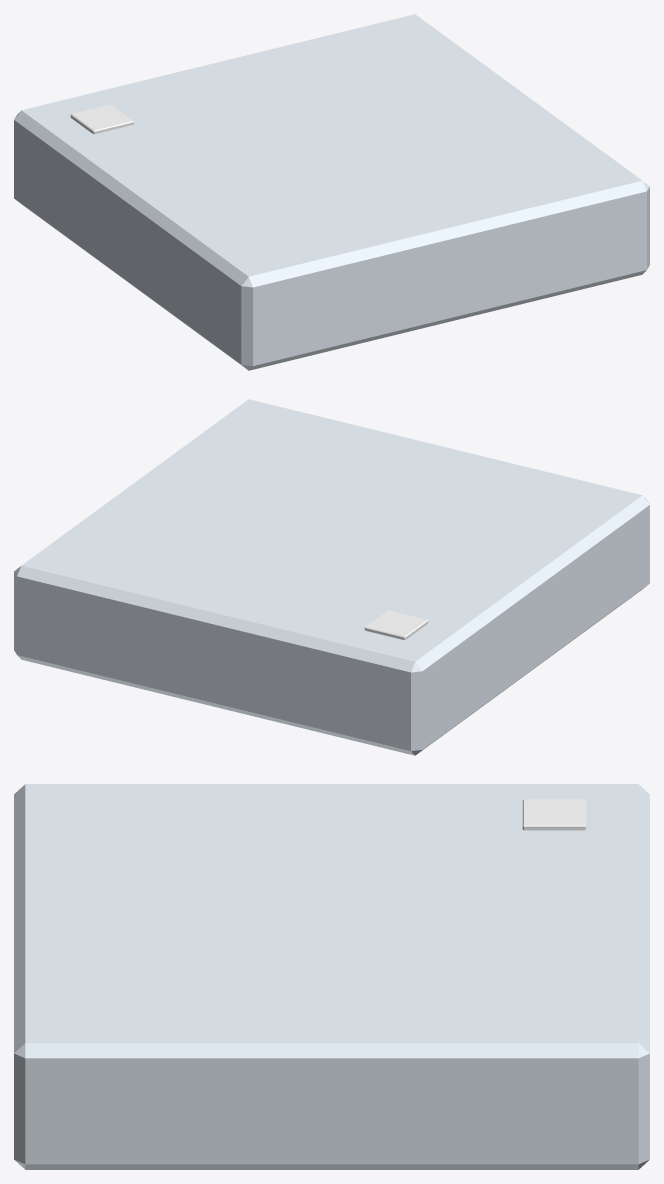
File: Tile_Ice_Core_v001.fbx
The picture shows the model from 3 angles, top to bottom: view 1: azimuth 30°, elevation 25°; view 2: azimuth 150°, elevation 25°; view 3: azimuth 270°, elevation 25°; orthographic projection. The views are drawn at different scales.
Visible parts, largest first — view 1: Tile, PermanentIceMark; view 2: Tile, PermanentIceMark; view 3: Tile, PermanentIceMark.
Boxes of the visible parts, bbox=[...] form: Tile: bbox=[14, 14, 649, 370]; PermanentIceMark: bbox=[70, 104, 133, 134]; Tile: bbox=[14, 399, 649, 755]; PermanentIceMark: bbox=[364, 610, 428, 640]; Tile: bbox=[14, 784, 649, 1169]; PermanentIceMark: bbox=[522, 799, 586, 830].
Bounding box in the file's own units: 100 × 22.8 × 100.
